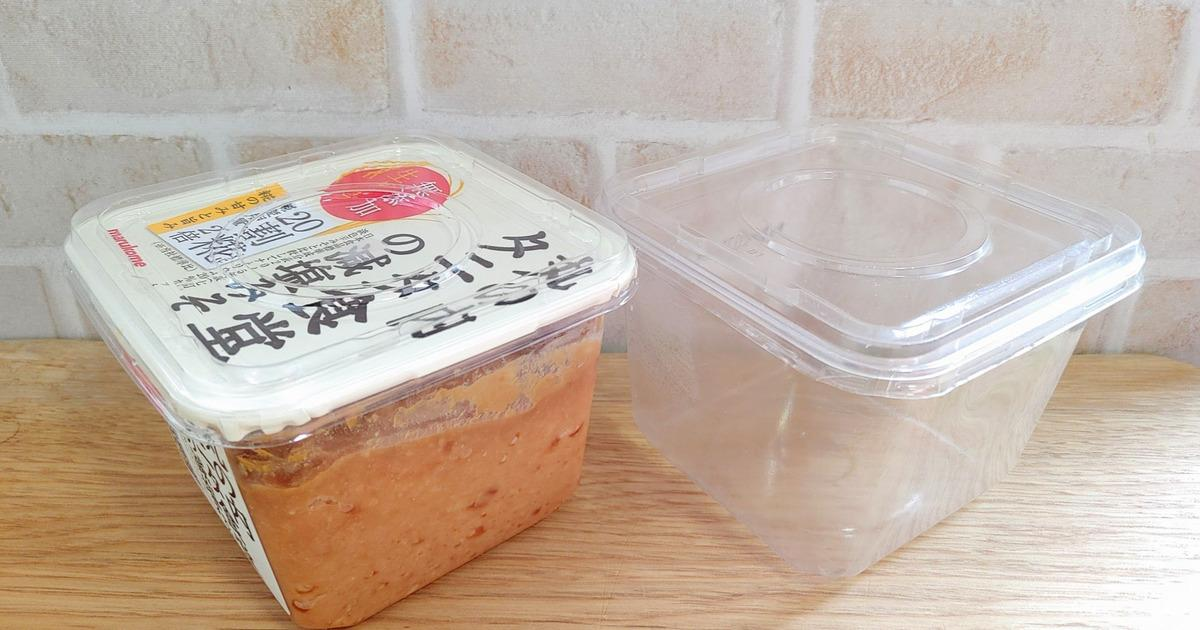plastic: (67, 140, 634, 629), (606, 125, 1144, 577)
